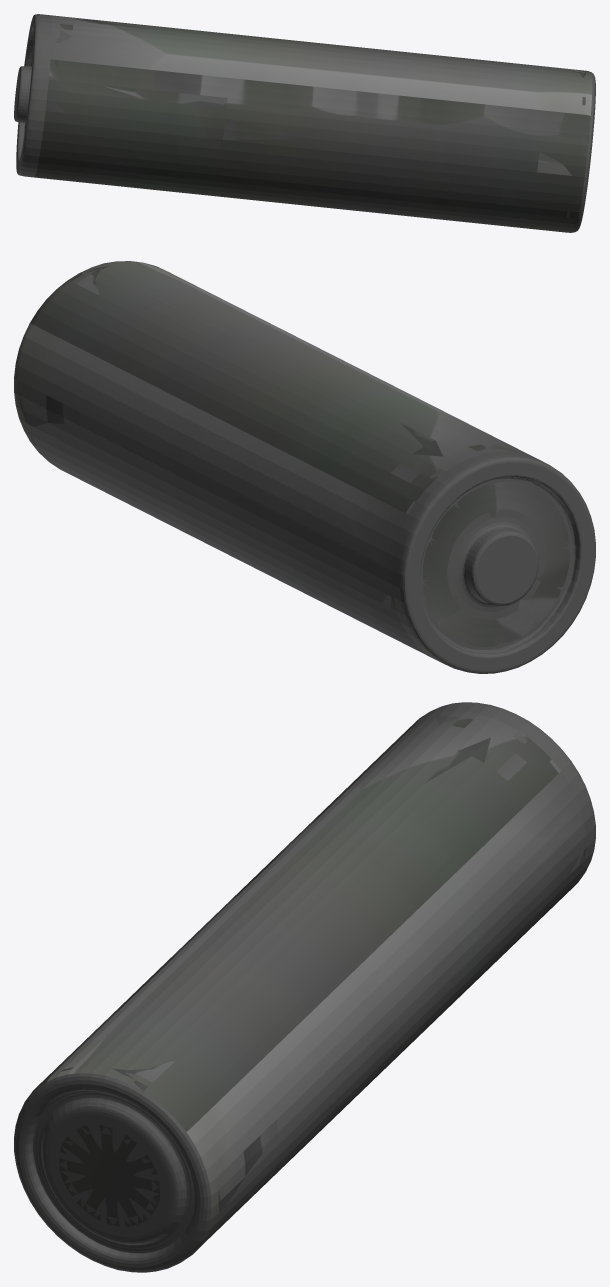
File: AAbattery.obj
3 views of the same model, one above another, from view 1: azimuth 30°, elevation 25°; view 2: azimuth 150°, elevation 25°; view 3: azimuth 270°, elevation 25° (orthographic). The views are drawn at different scales.
Size of the model in its own units: 0.0493 by 0.0198 by 0.0361.
1 material, 1 textured.
